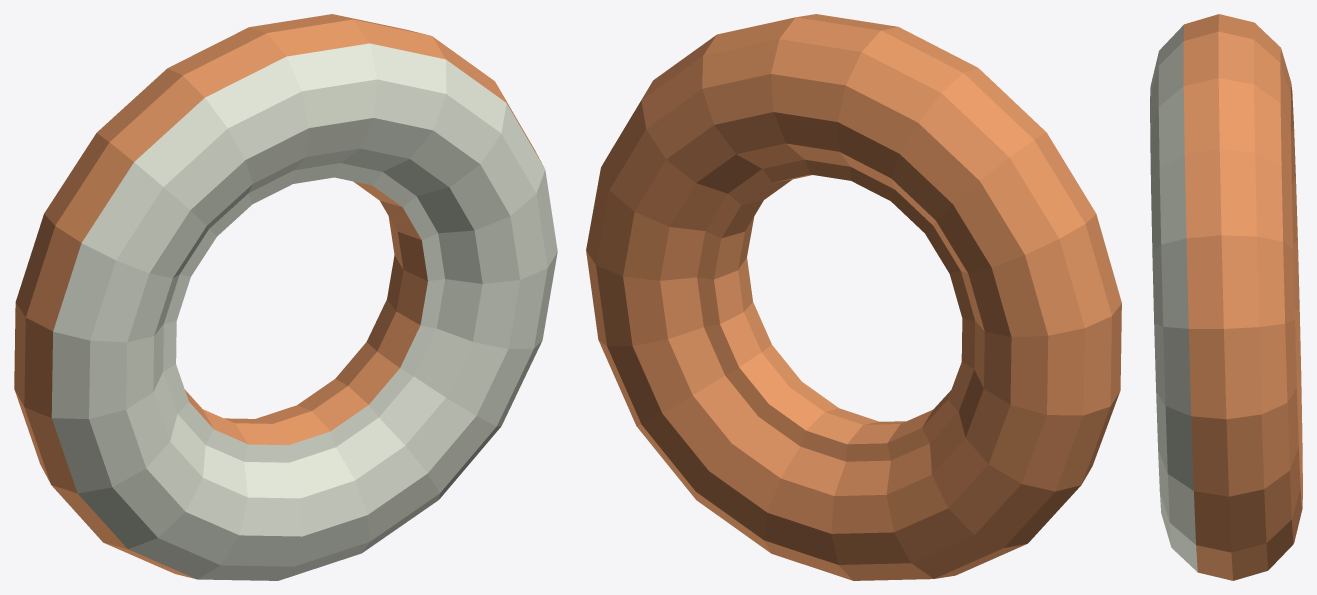
File: donut2.fbx
The picture shows the model from 3 angles, left to right: view 1: azimuth 30°, elevation 25°; view 2: azimuth 150°, elevation 25°; view 3: azimuth 270°, elevation 25°; orthographic projection. The views are drawn at different scales.
Parts seen in each view (by area): view 1: Torus.001; view 2: Torus.001; view 3: Torus.001.
Part boxes in pixels (left/top/right/bottom): Torus.001: left=14, top=14, right=557, bottom=580; Torus.001: left=586, top=14, right=1121, bottom=580; Torus.001: left=1150, top=14, right=1302, bottom=580.
Size of the model in its own units: 169 by 169 by 45.59.
